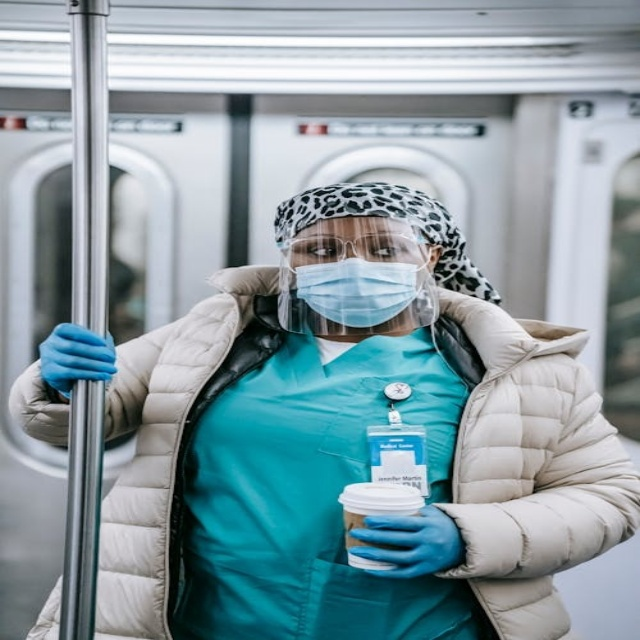Gafas: (281, 230, 431, 265)
Guantes: (348, 506, 466, 579), (37, 322, 117, 396)
Mascara: (291, 256, 425, 326)
